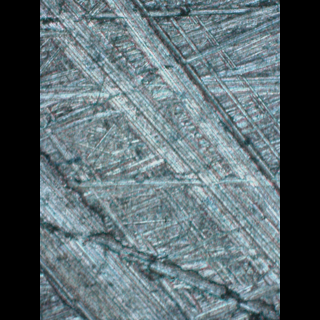d: (39, 0, 279, 291), (40, 140, 190, 318)
